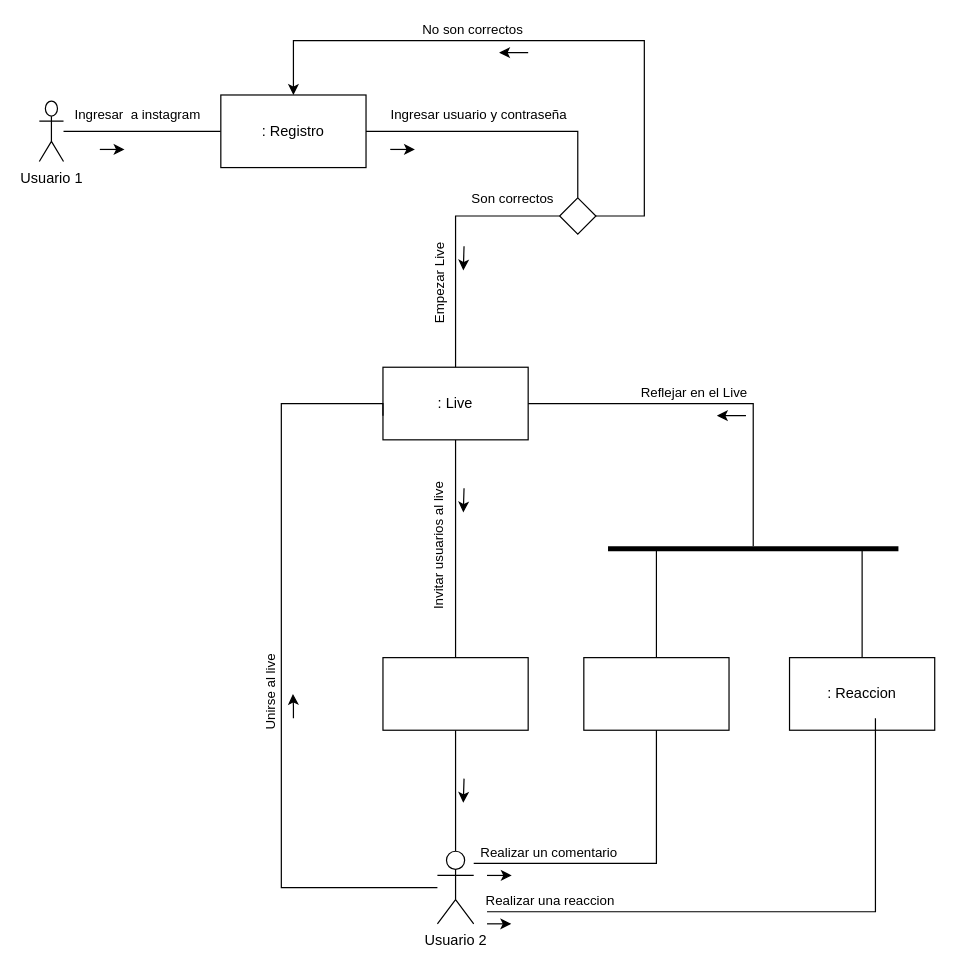
Some shapes in this 956 by 969 pixel diagram are drawn without their labels. The centre of each missing label's shape, as x and y in pixels:
: Comentario: pixel 656 693
: Invitacion: pixel 455 693
